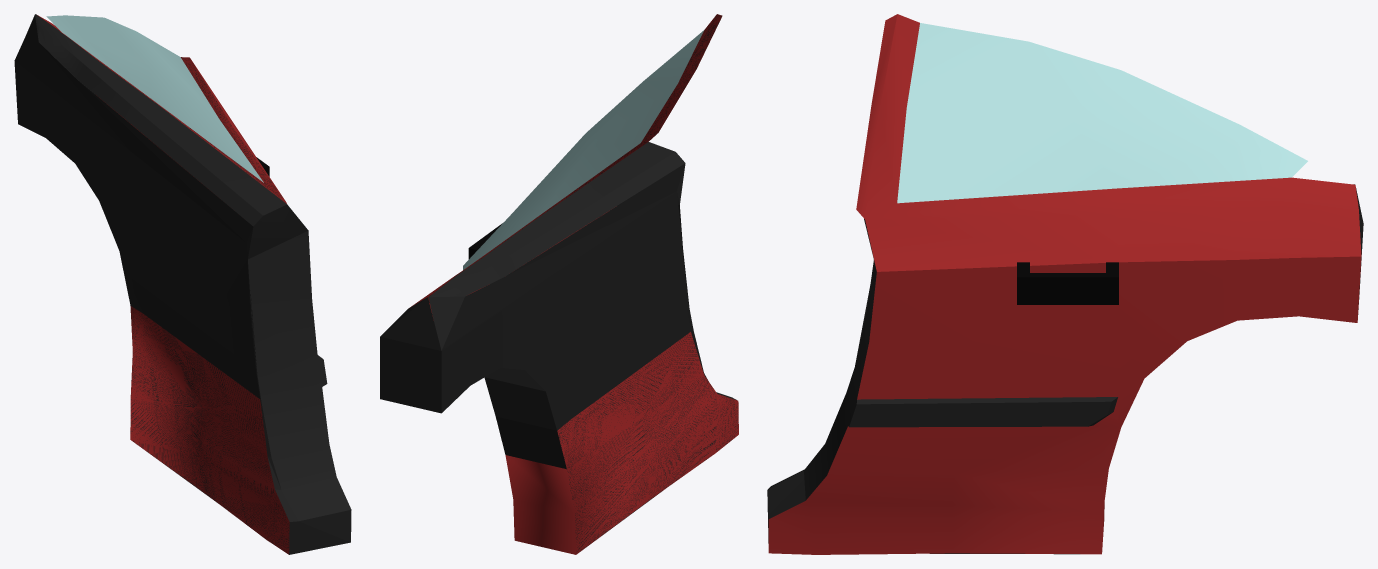
File: CarDoorBL.dae
3 renders of one model, left to right at view 1: azimuth 30°, elevation 25°; view 2: azimuth 150°, elevation 25°; view 3: azimuth 270°, elevation 25°, orthographic. The views are drawn at different scales.
Visible parts, largest first — view 1: group_0 (×4); view 2: group_0 (×4); view 3: group_0 (×3), doornob.
Boxes of the visible parts, <box> form: group_0 (×4): <box>14,14,351,554</box>; group_0 (×4): <box>380,14,738,554</box>; group_0 (×3): <box>767,14,1363,554</box>; doornob: <box>1017,262,1118,304</box>.
Size of the model in its own units: 12.82 by 46.16 by 41.84.
